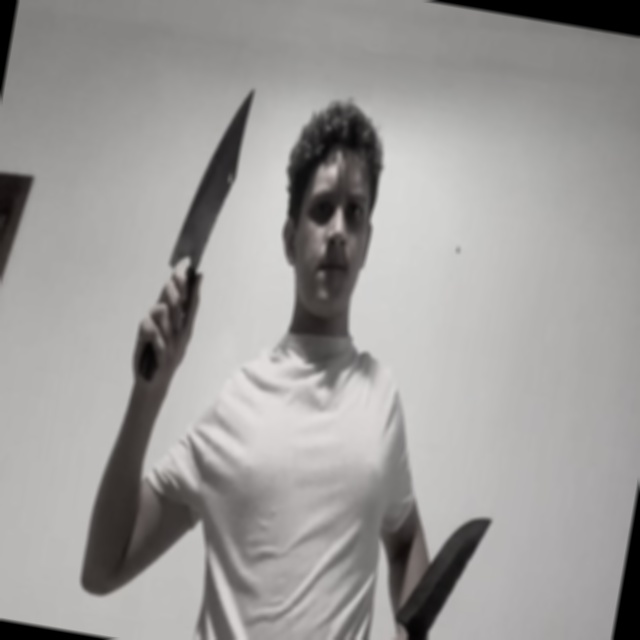Sharp-Object: (170, 78, 257, 275), (395, 502, 494, 635)
